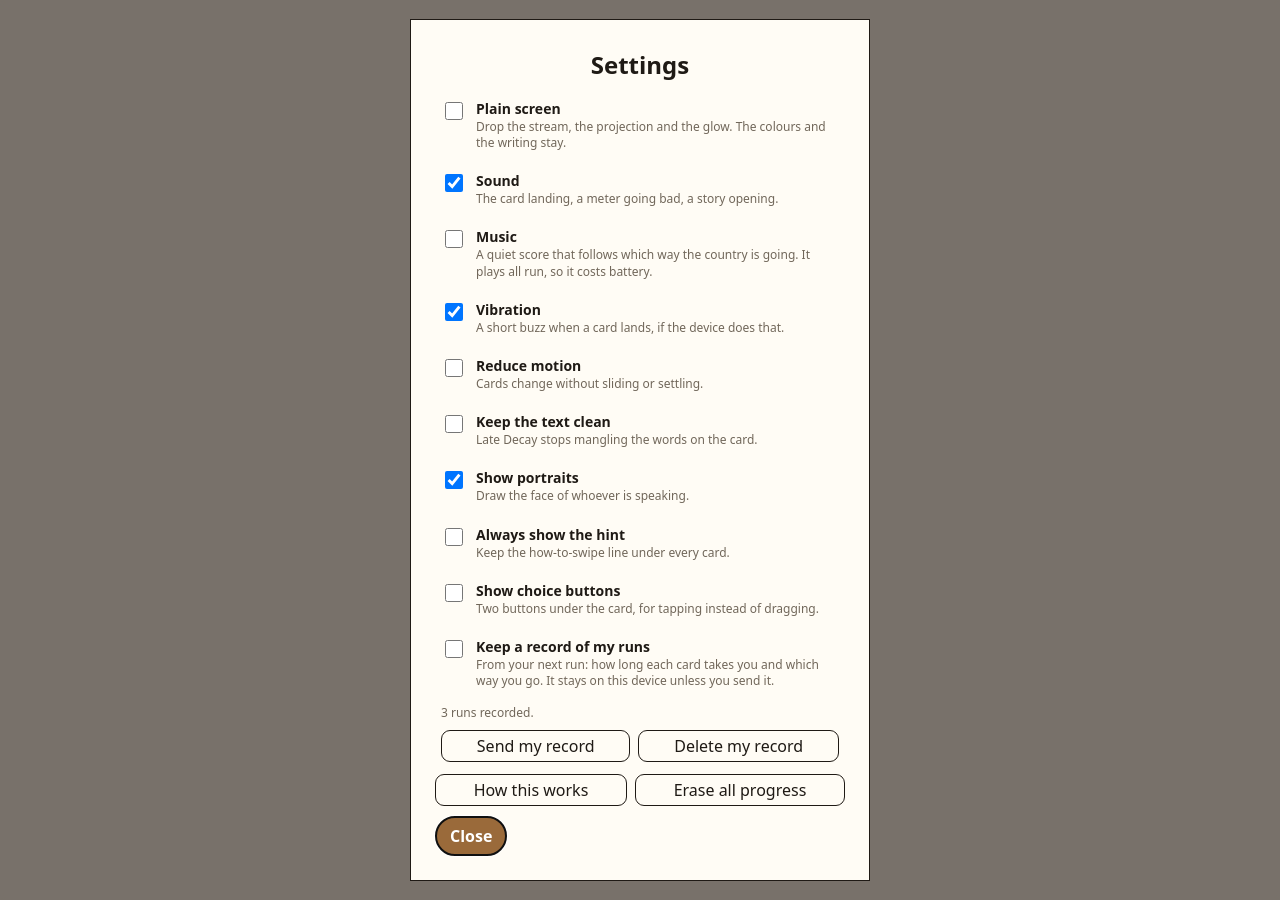
Test: the record in the settings › sends the record when asked, and deletes it only on a second tap
Later steps or results of the test are not shown.
Expected: the text "3 runs recorded." is shown, [441,704,534,721]
Click the button "Send my record" at (536, 746), box [441,730,630,762]
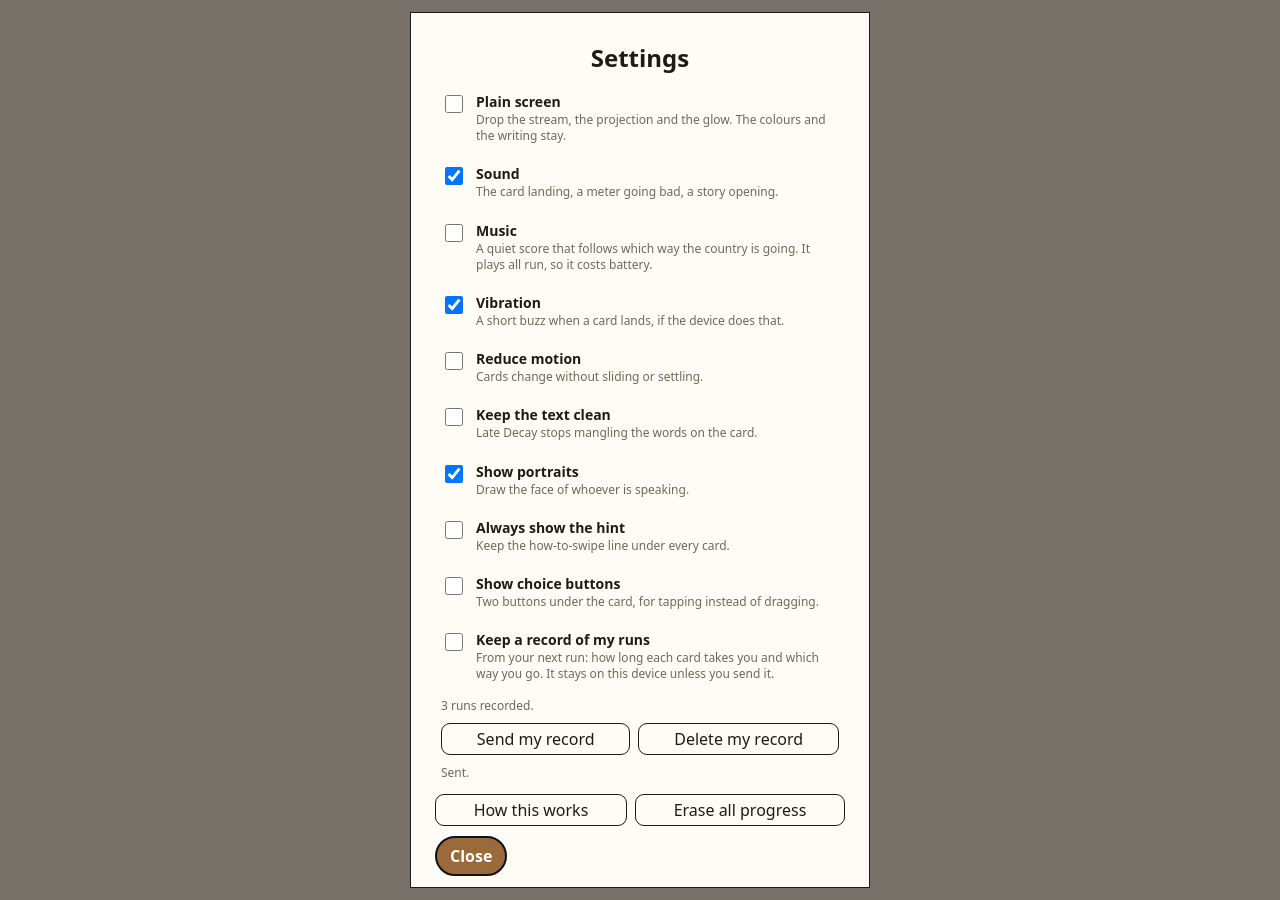
Result: the message reads "Sent." at [441,764,469,781]
